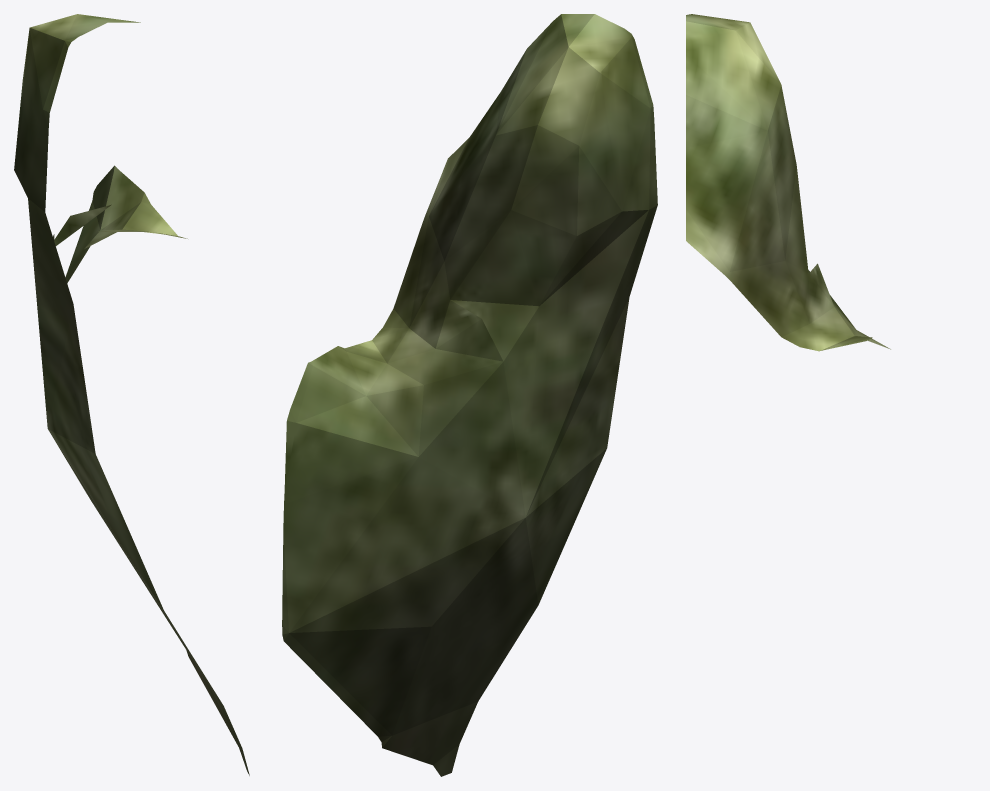
3 renders of one model, left to right at view 1: azimuth 30°, elevation 25°; view 2: azimuth 150°, elevation 25°; view 3: azimuth 270°, elevation 25°, orthographic. The views are drawn at different scales.
Bounding box in the file's own units: 0.4508 × 1.6 × 0.605.
1 material, 1 textured.
